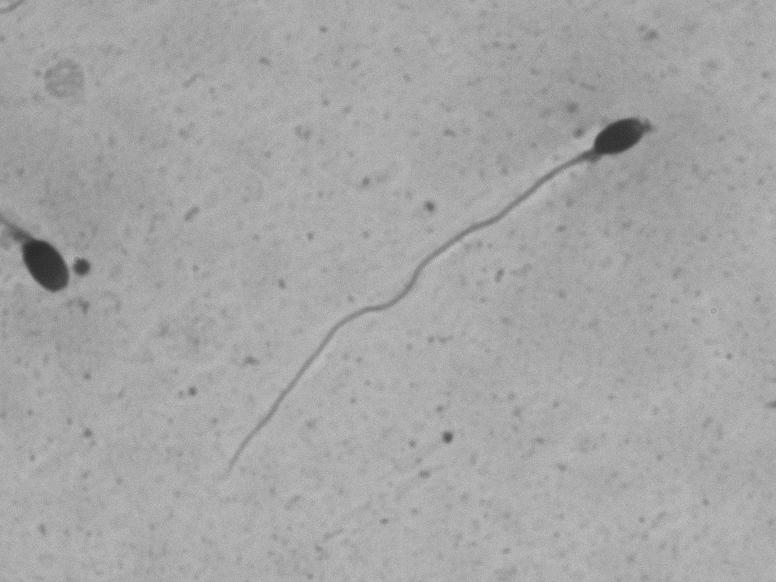Abnormal: (195, 92, 669, 520)
